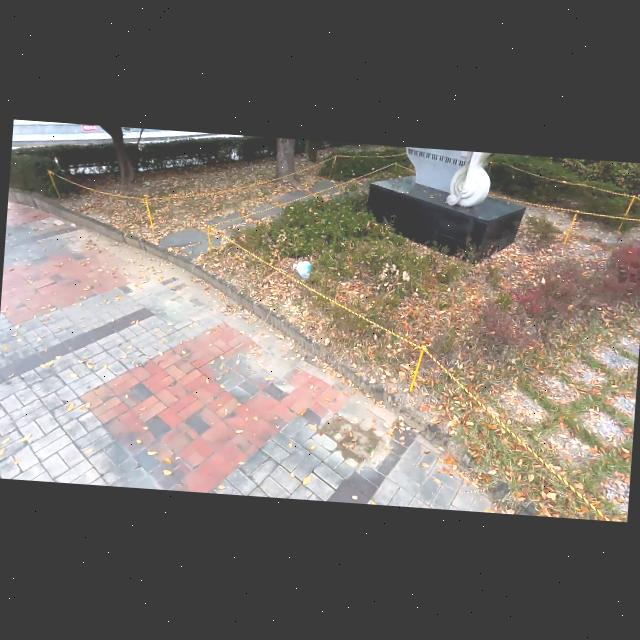trash: (286, 254, 314, 280)
